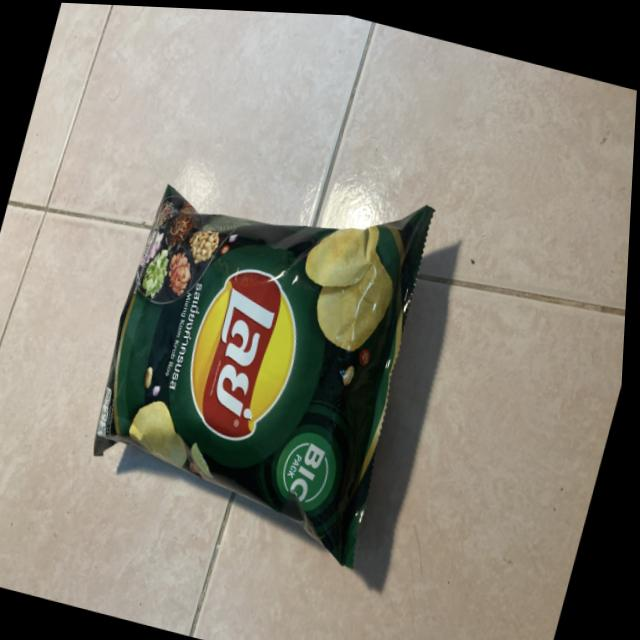Laygreen: (74, 91, 485, 569)
